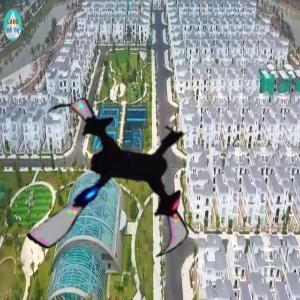drone: (13, 86, 211, 284)
